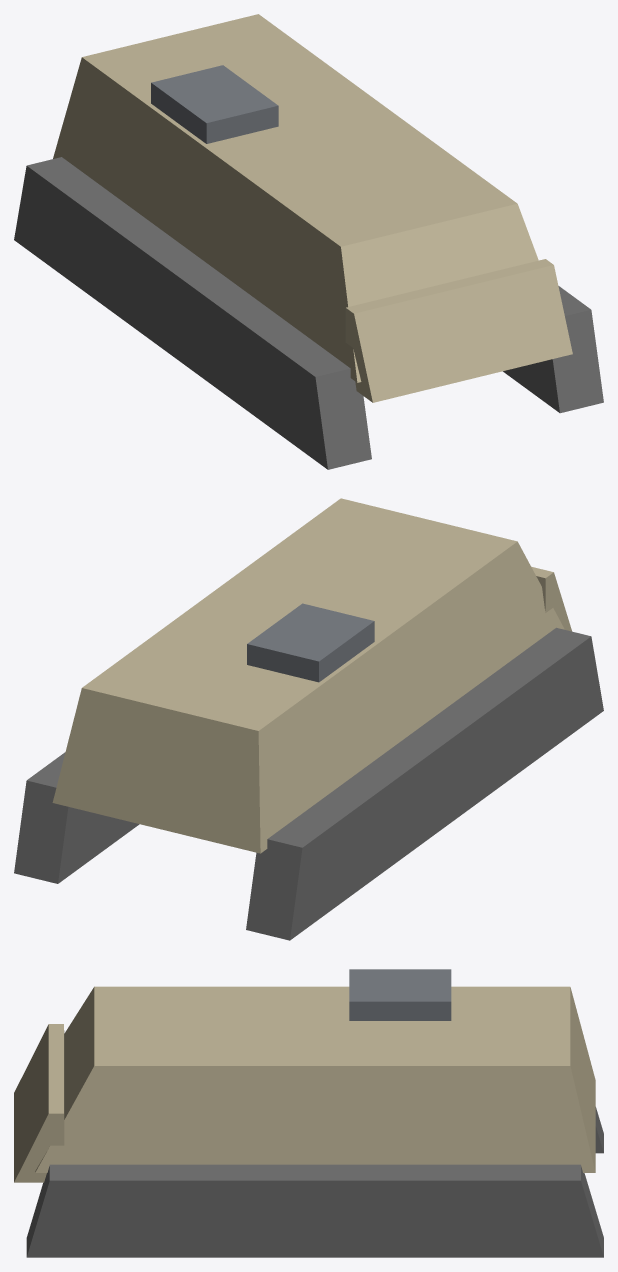
Rendered from synth_tracked_carrier.glb.
The picture shows the model from 3 angles, top to bottom: view 1: azimuth 30°, elevation 25°; view 2: azimuth 150°, elevation 25°; view 3: azimuth 270°, elevation 25°; orthographic projection. The views are drawn at different scales.
Bounding box in the file's own units: 3.45 × 2.45 × 6.95.
